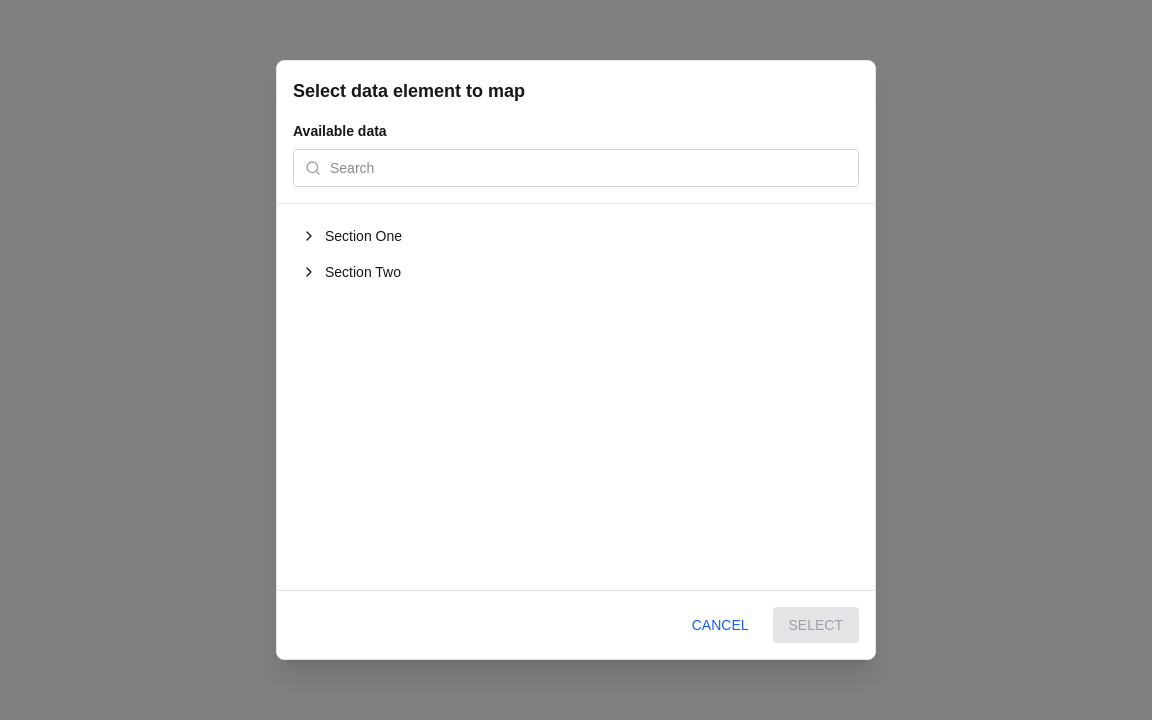
it: DataSelectorModal › search hides sections with no matching fields
Type "foo" into the field with placeholder "Search" at (576, 168), box [293,149,859,187]
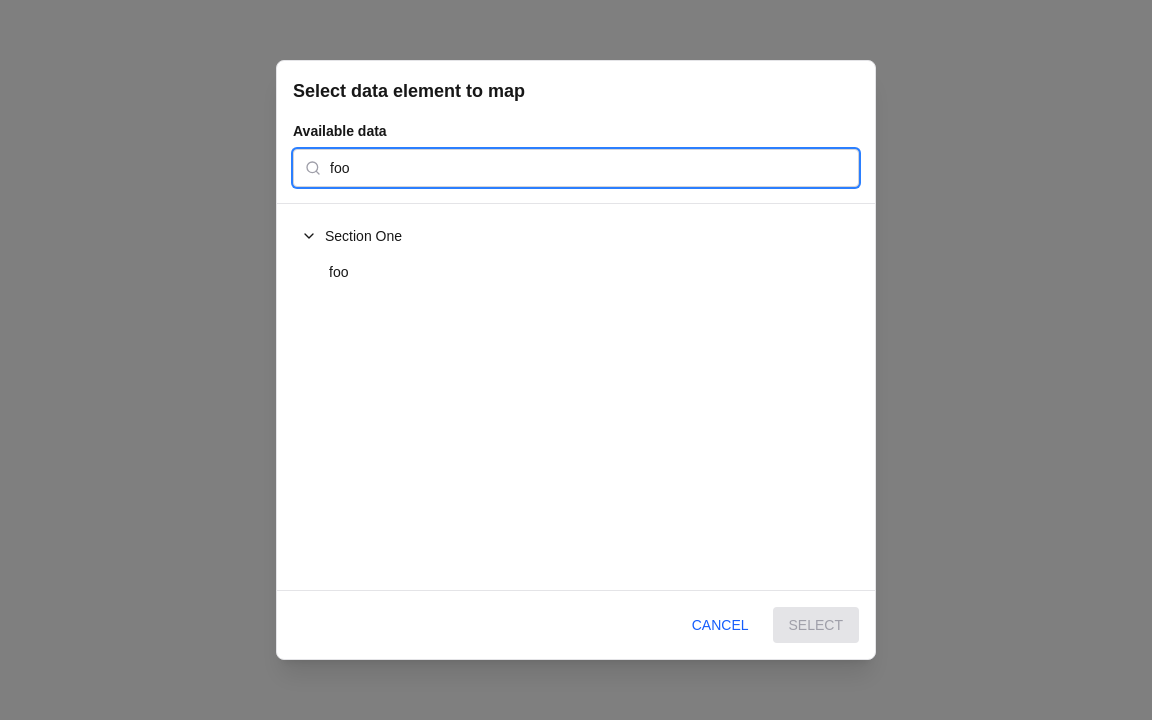
expect the text "Section One" is shown: met, box [325,226,402,246]
expect the button "Section Two" is gone: met
